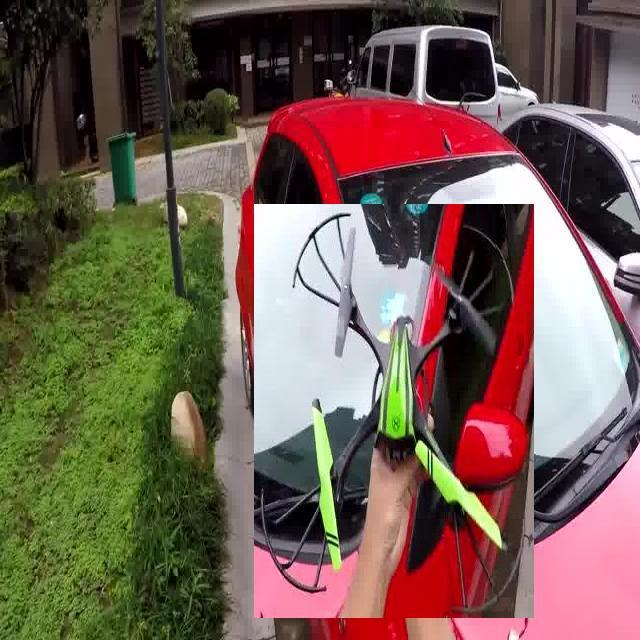drone: (253, 204, 534, 618)
